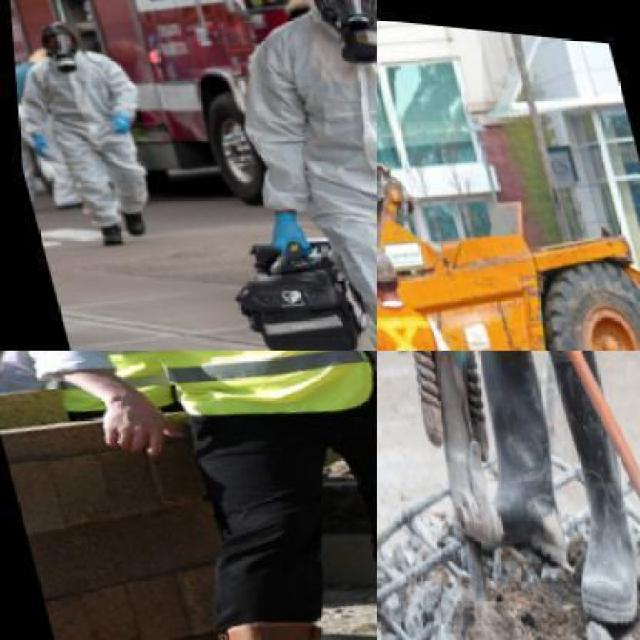vest: (210, 0, 376, 248), (71, 351, 375, 454), (11, 34, 157, 158), (377, 286, 457, 349)
